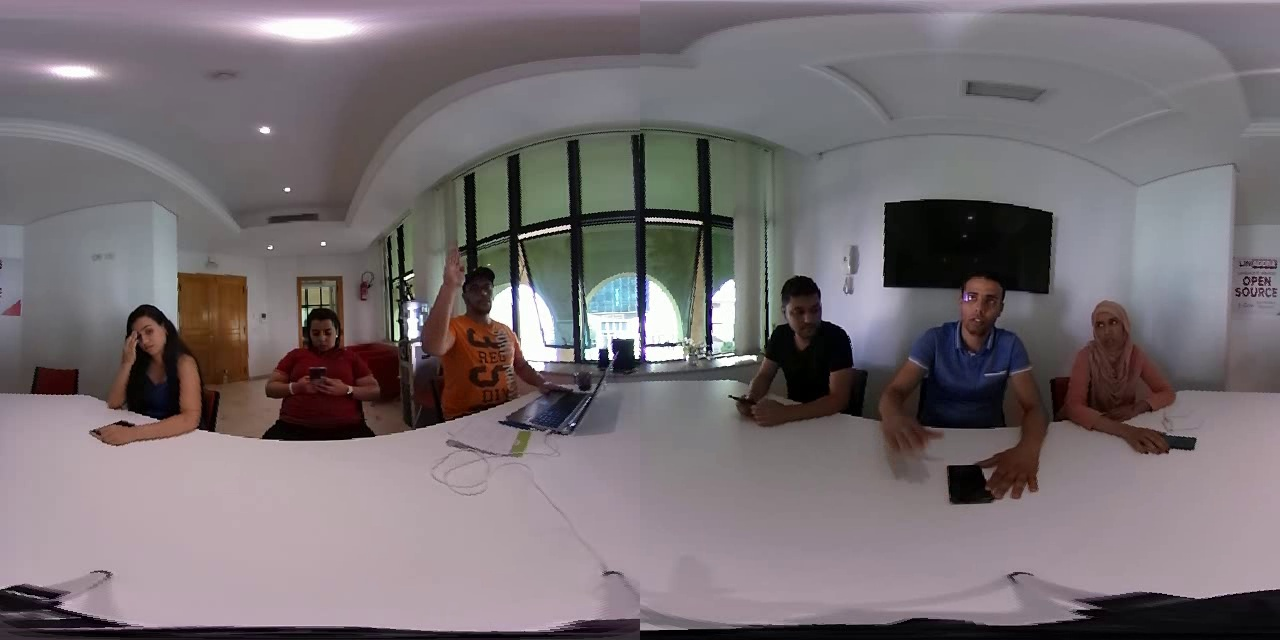person: (871, 264, 1059, 512), (410, 234, 571, 416), (1063, 289, 1206, 452), (731, 270, 857, 433), (84, 292, 211, 449), (255, 304, 386, 439)
